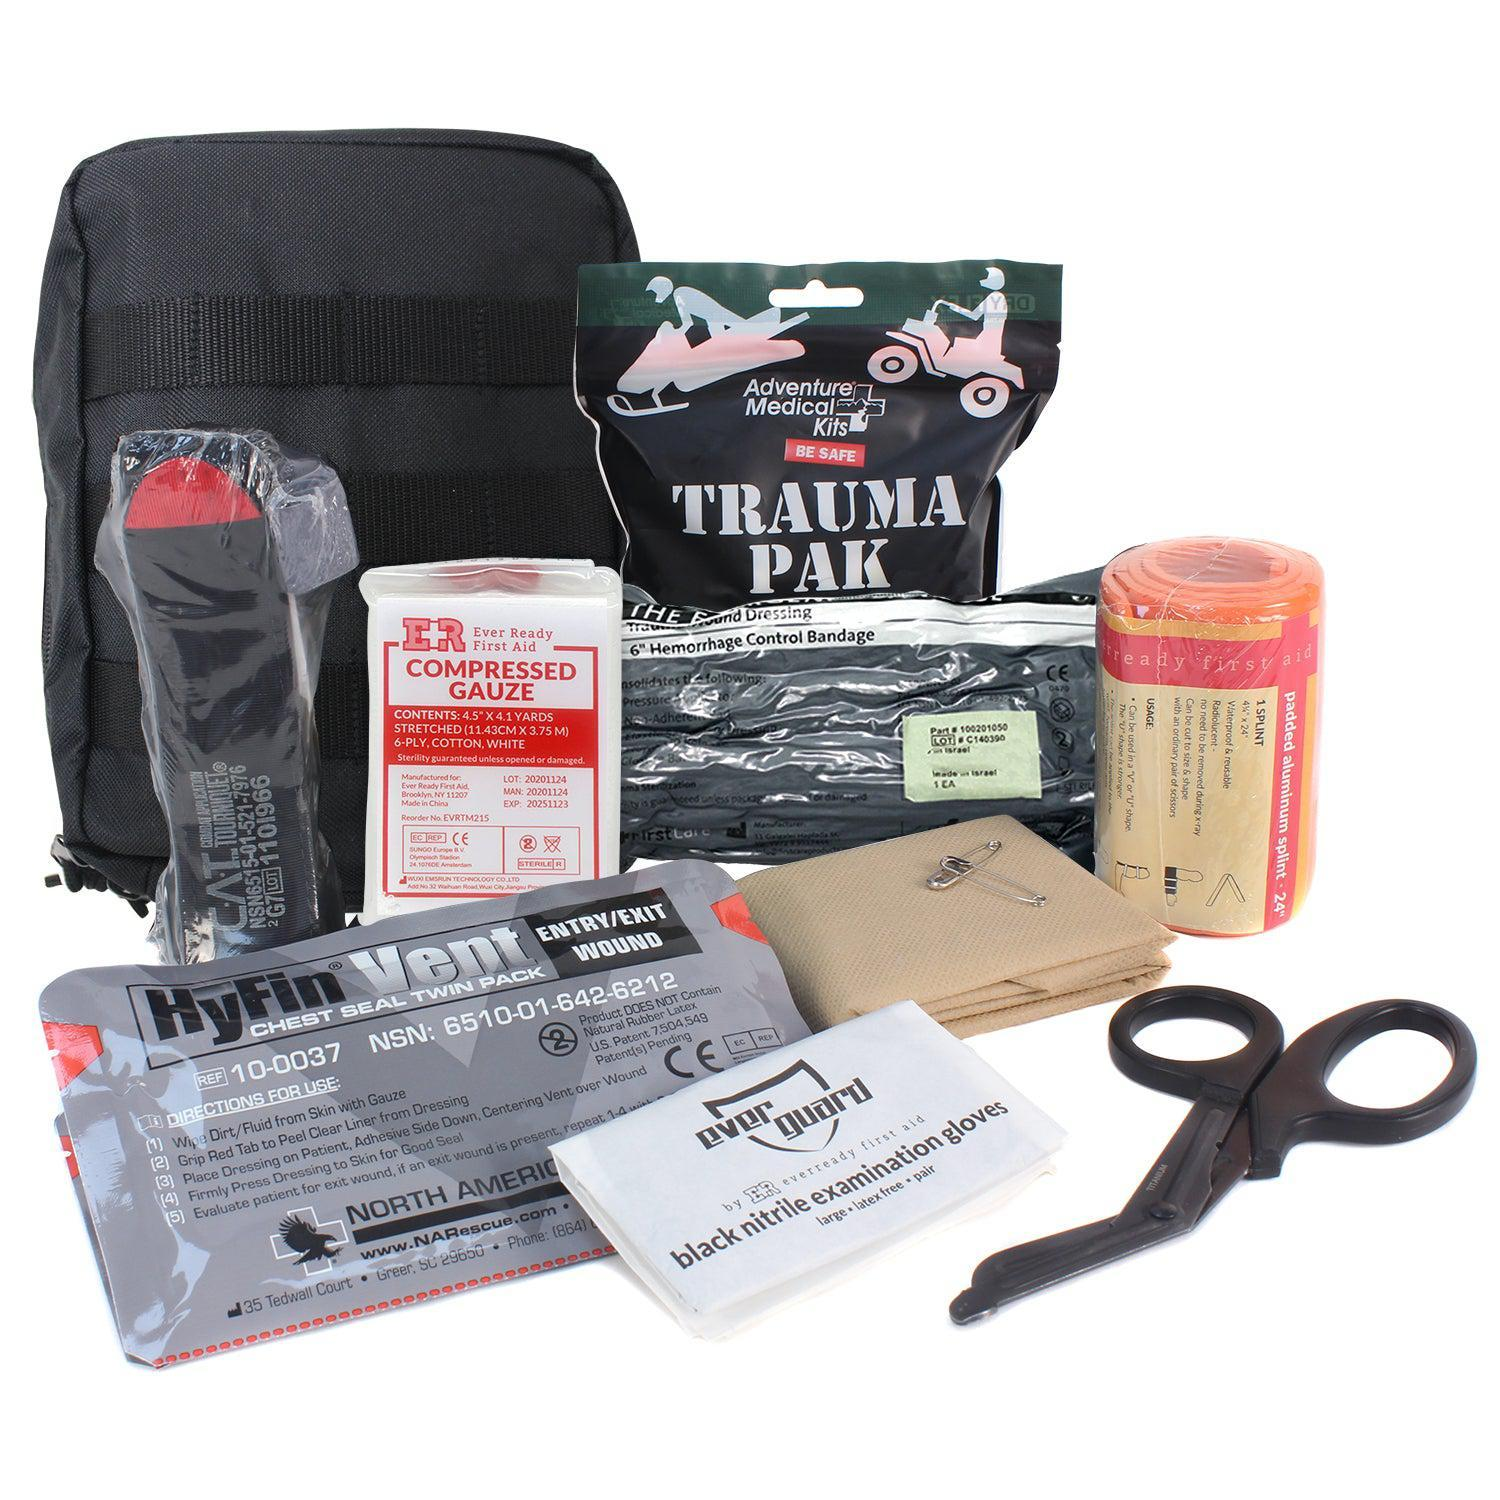scissors: (944, 978, 1481, 1342)
